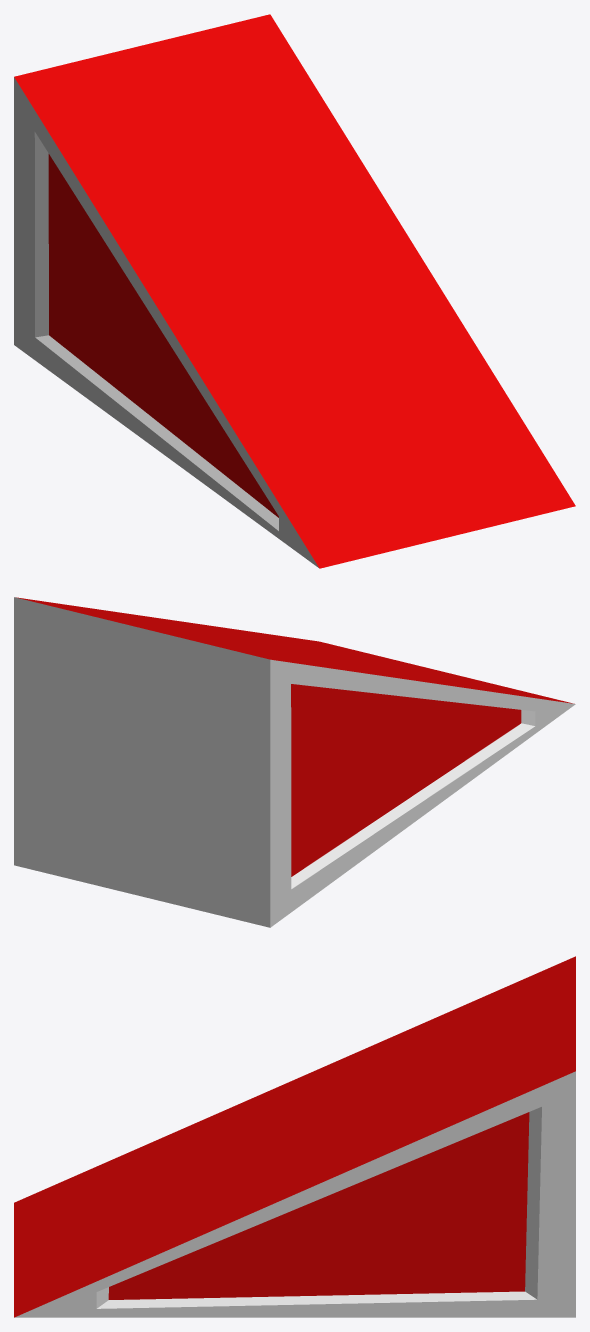
Rendered from Red slide.fbx.
3 views of the same model, one above another, from view 1: azimuth 30°, elevation 25°; view 2: azimuth 150°, elevation 25°; view 3: azimuth 270°, elevation 25° (orthographic). The views are drawn at different scales.
Visible parts, largest first — view 1: pCube11; view 2: pCube11; view 3: pCube11.
Part boxes in pixels (left/top/right/bottom): pCube11: left=14, top=14, right=575, bottom=568; pCube11: left=14, top=597, right=575, bottom=927; pCube11: left=14, top=956, right=575, bottom=1317.
Bounding box in the file's own units: 1 × 1 × 2.07.
